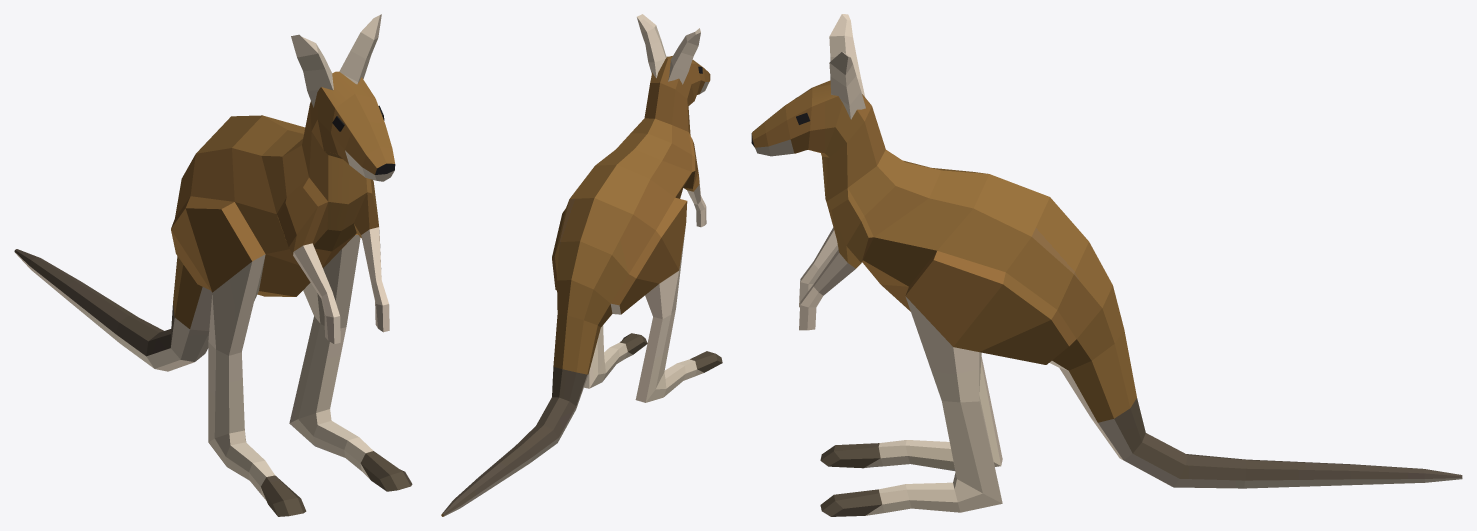
Rendered from kangaroo.glb.
3 renders of one model, left to right at view 1: azimuth 30°, elevation 25°; view 2: azimuth 150°, elevation 25°; view 3: azimuth 270°, elevation 25°, orthographic. The views are drawn at different scales.
Parts seen in each view (by area): view 1: Geo_Kangaroo; view 2: Geo_Kangaroo; view 3: Geo_Kangaroo.
Boxes of the visible parts, x1,y1,x2,y2 form: Geo_Kangaroo: (14, 14, 412, 516); Geo_Kangaroo: (441, 14, 722, 516); Geo_Kangaroo: (751, 14, 1462, 516).
Size of the model in its own units: 0.466 by 1.5 by 2.12.
1 material, 1 textured.
